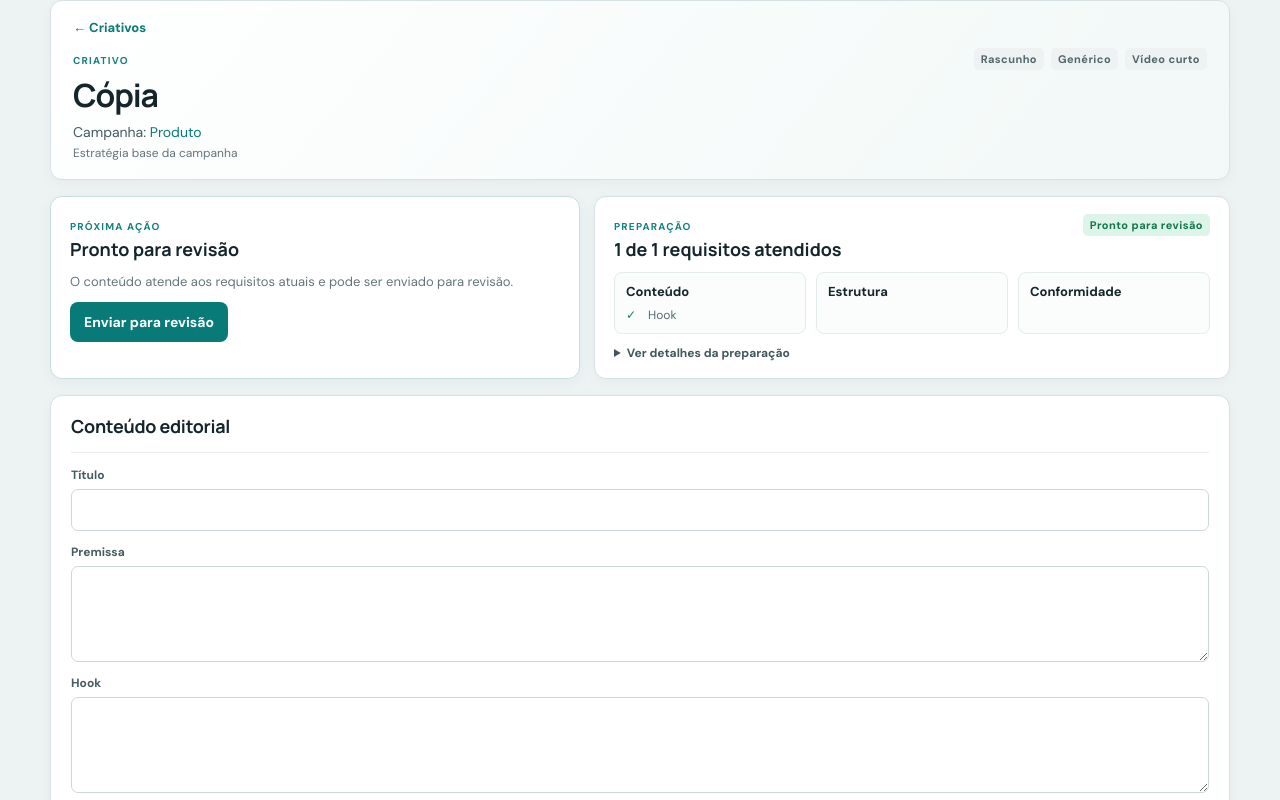
envio do Creative para revisão › duplo clique não envia o mesmo Creative duas vezes
Click the button "Enviar para revisão". click: {"x": 149, "y": 322}
box: top-left (70, 302), bottom-right (228, 342)
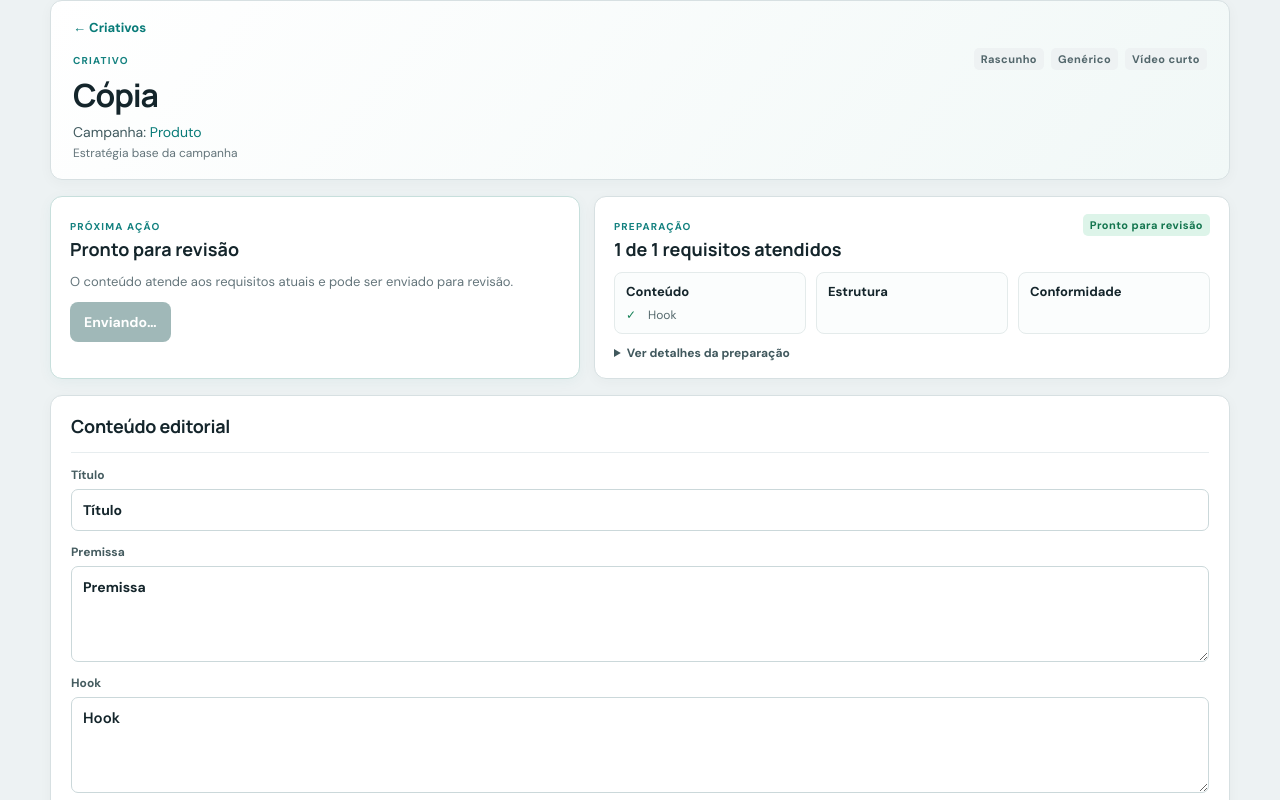
Click the button named "Enviar para revisão". click: {"x": 120, "y": 322}
box: top-left (70, 302), bottom-right (171, 342)
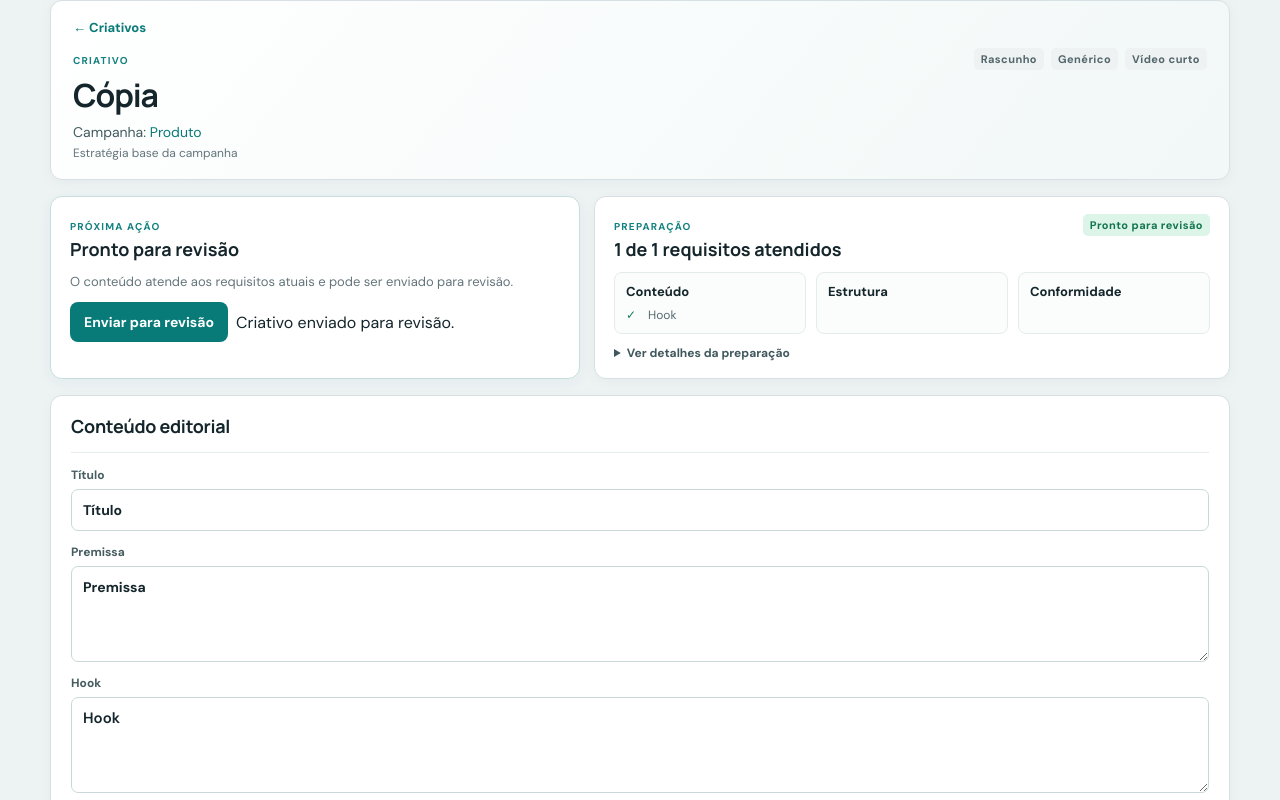
Check: the text "Criativo enviado para revisão." is shown, box top-left (236, 312), bottom-right (454, 332)
